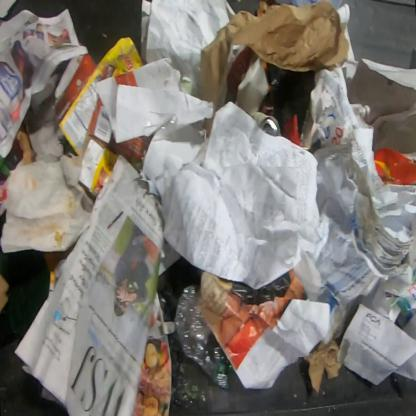cardboard: (52, 35, 156, 201), (304, 331, 345, 392), (0, 273, 9, 313)
metal: (251, 112, 281, 137)
rigid_plastic: (175, 285, 238, 389)
